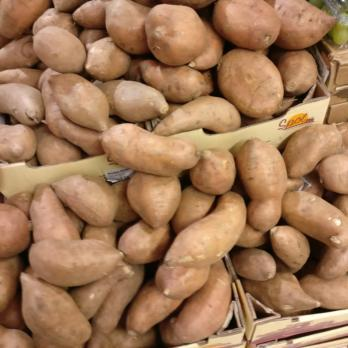Sweet potato: (0, 192, 342, 314), (0, 0, 318, 93), (0, 95, 248, 135), (106, 133, 241, 198), (246, 119, 348, 192), (0, 316, 222, 348)
